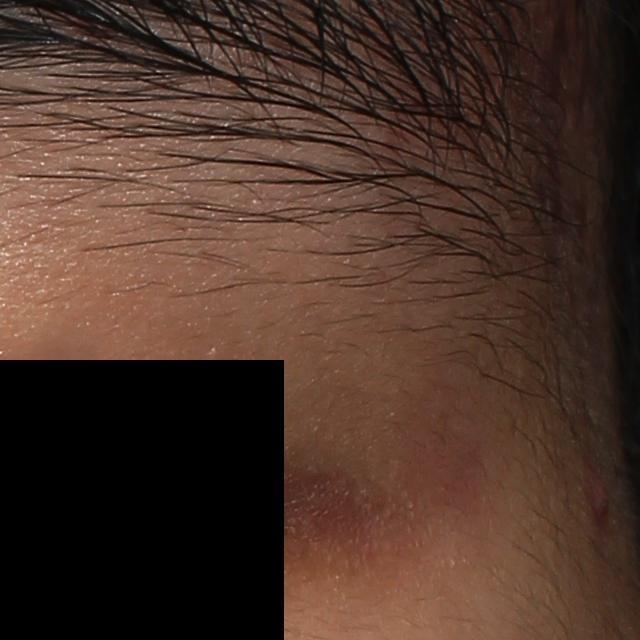papule: (582, 462, 619, 524)
